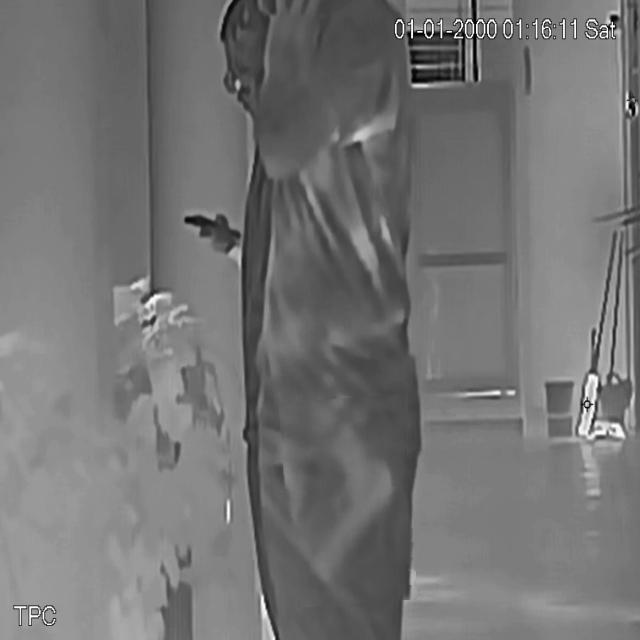Weapon: (282, 396, 414, 606)
